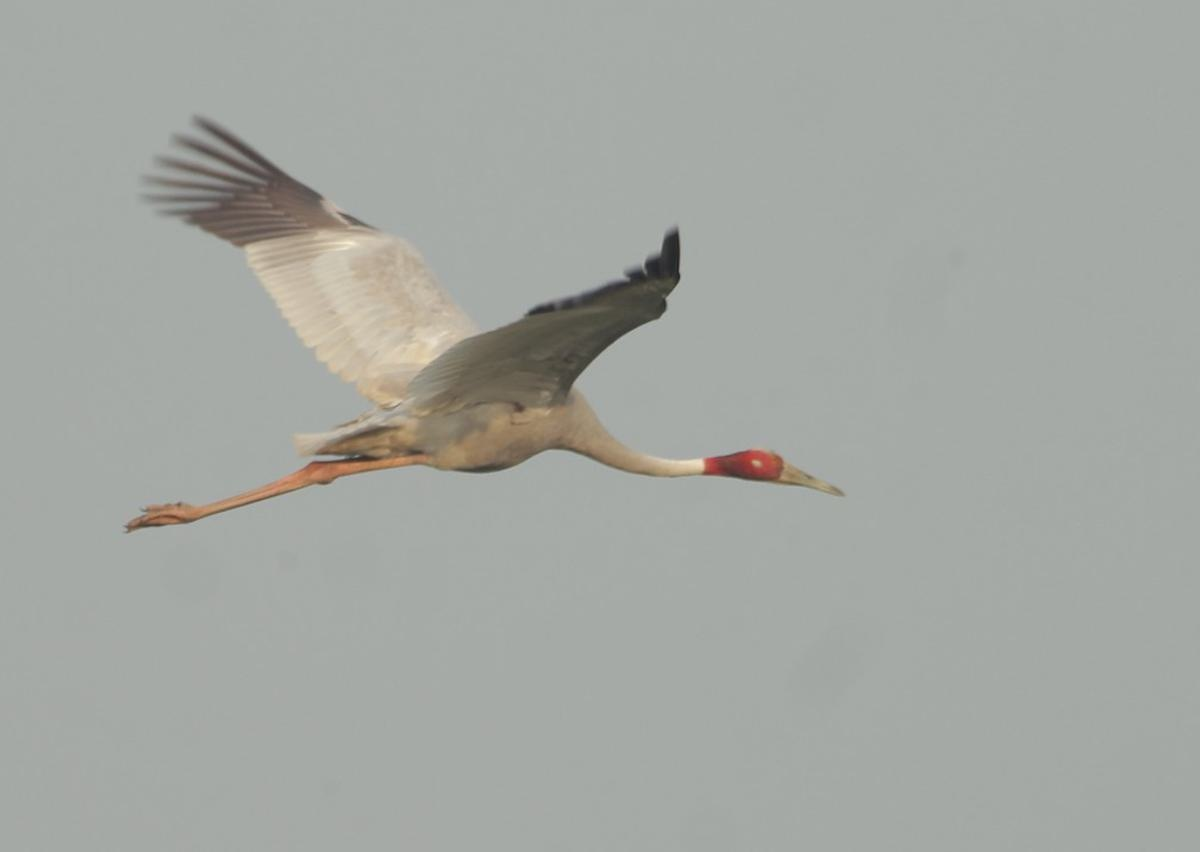crane: (100, 158, 873, 554)
